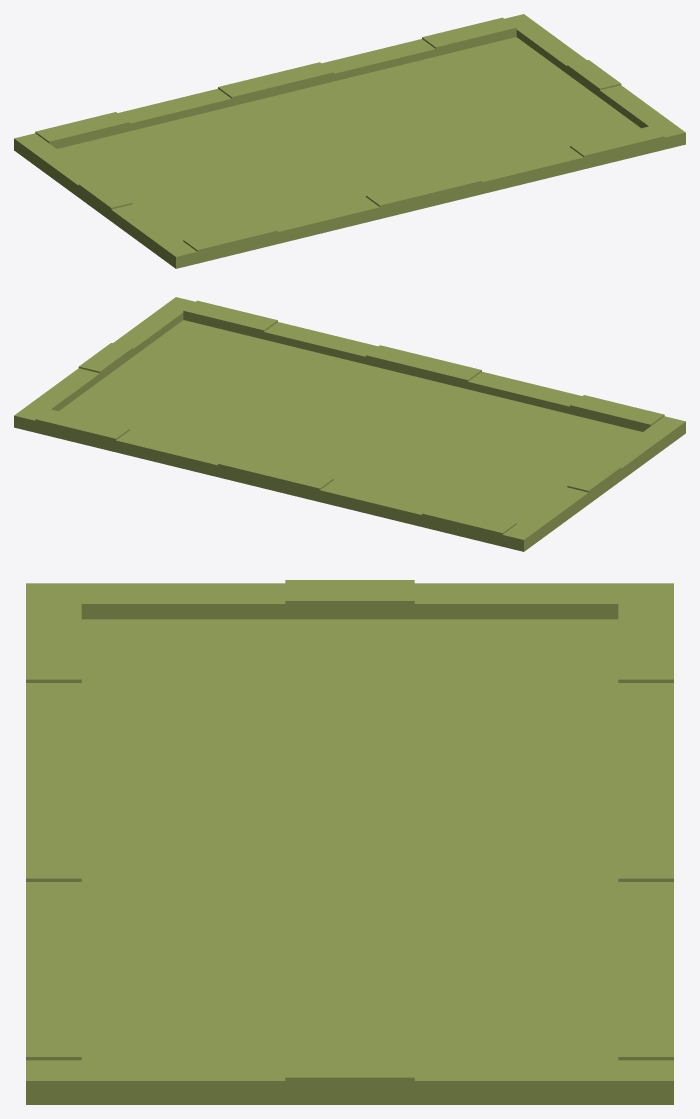
File: Greed_PokerBoard.fbx
3 renders of one model, top to bottom at view 1: azimuth 30°, elevation 25°; view 2: azimuth 150°, elevation 25°; view 3: azimuth 270°, elevation 25°, orthographic. The views are drawn at different scales.
Parts seen in each view (by area): view 1: Playboard; view 2: Playboard; view 3: Playboard.
Part boxes in pixels (x1,y1,x2,y2): Playboard: (14,14,685,268); Playboard: (14,297,685,551); Playboard: (26,580,673,1104).
Bounding box in the file's own units: 9.39 × 0.2388 × 5.16.
